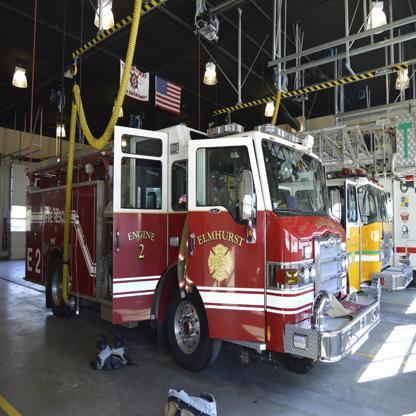fire-truck: (14, 82, 371, 403)
